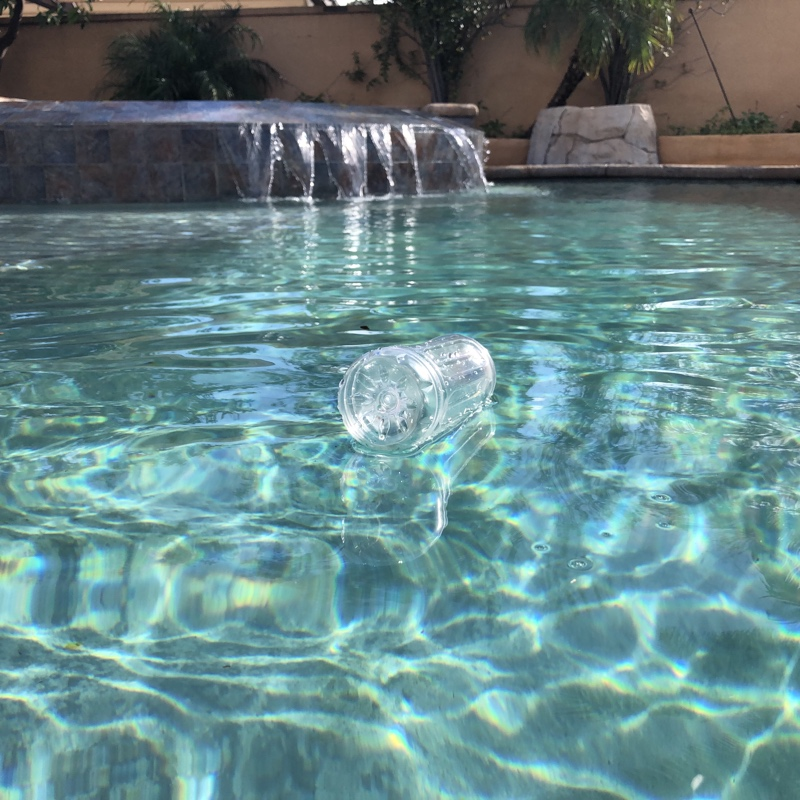Plastic Bottle: (331, 324, 501, 462)
